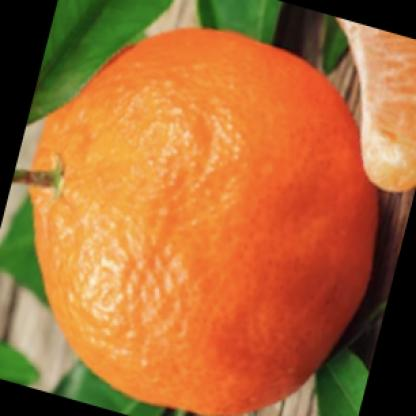fresh: (30, 28, 381, 413)
